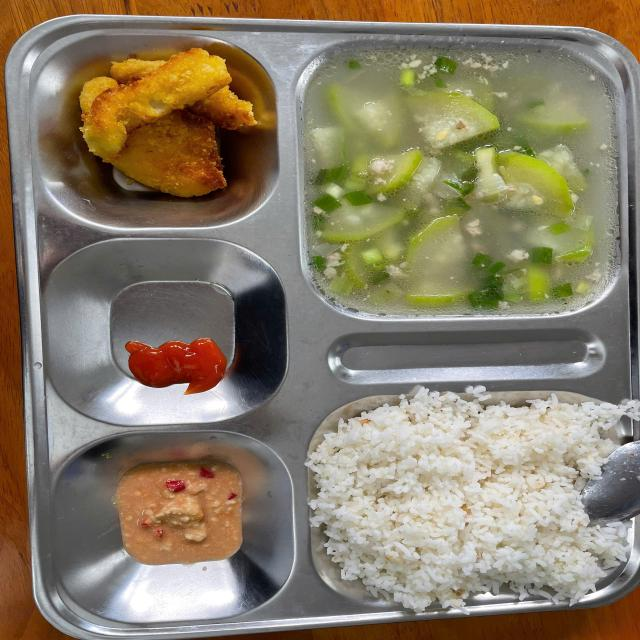cachien: (82, 49, 261, 199)
canhbau: (305, 48, 615, 316)
salad: (335, 406, 606, 590)
